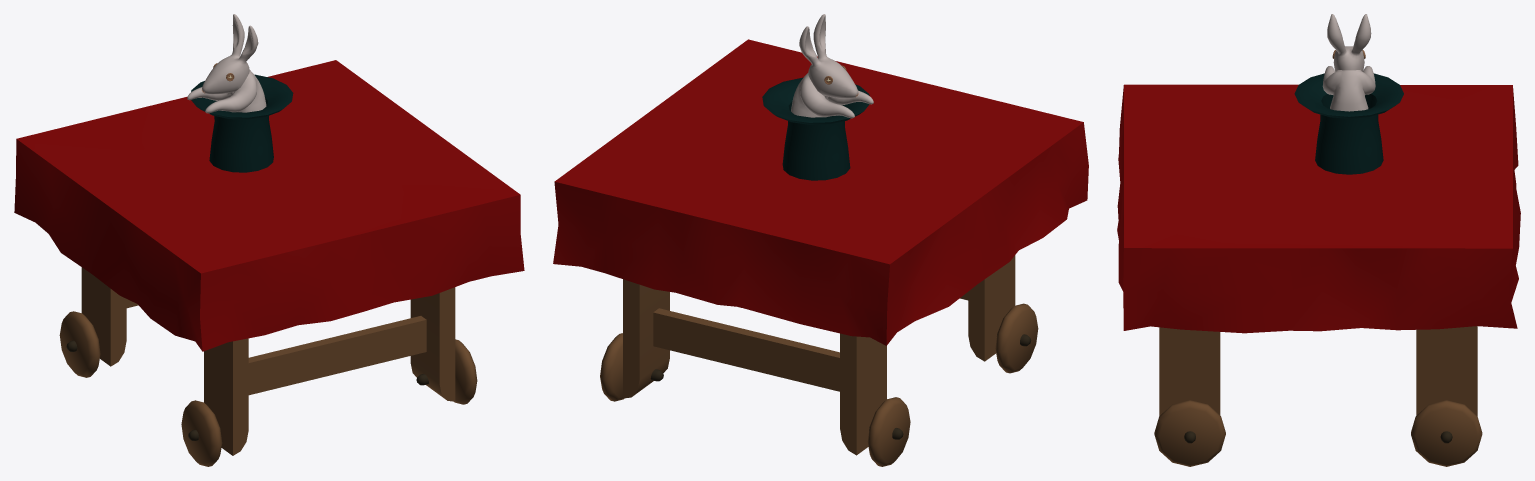
Rendered from SE_175_table_with_bunny_in_a_hat.glb.
3 views of the same model, side by side, from view 1: azimuth 30°, elevation 25°; view 2: azimuth 150°, elevation 25°; view 3: azimuth 270°, elevation 25° (orthographic). The views are drawn at different scales.
Visible parts, largest first — view 1: table_cloth, table_legs, wheels, hat, bunny; view 2: table_cloth, table_legs, wheels, hat, bunny; view 3: table_cloth, table_legs, wheels, hat, bunny.
Part boxes in pixels (x1=…): table_cloth: x1=14, y1=60, x2=524, y2=351; table_legs: x1=81, y1=267, x2=455, y2=455; wheels: x1=59, y1=311, x2=477, y2=466; hat: x1=191, y1=74, x2=293, y2=172; bunny: x1=187, y1=14, x2=266, y2=113; table_cloth: x1=553, y1=39, x2=1088, y2=345; table_legs: x1=623, y1=255, x2=1015, y2=455; wheels: x1=600, y1=303, x2=1038, y2=466; hat: x1=762, y1=77, x2=869, y2=180; bunny: x1=791, y1=14, x2=873, y2=118; table_cloth: x1=1117, y1=84, x2=1520, y2=333; table_legs: x1=1159, y1=326, x2=1477, y2=415; wheels: x1=1154, y1=400, x2=1482, y2=466; hat: x1=1294, y1=73, x2=1403, y2=174; bunny: x1=1322, y1=14, x2=1375, y2=111.
Bounding box in the file's own units: 1.35 × 1.4 × 1.35.
